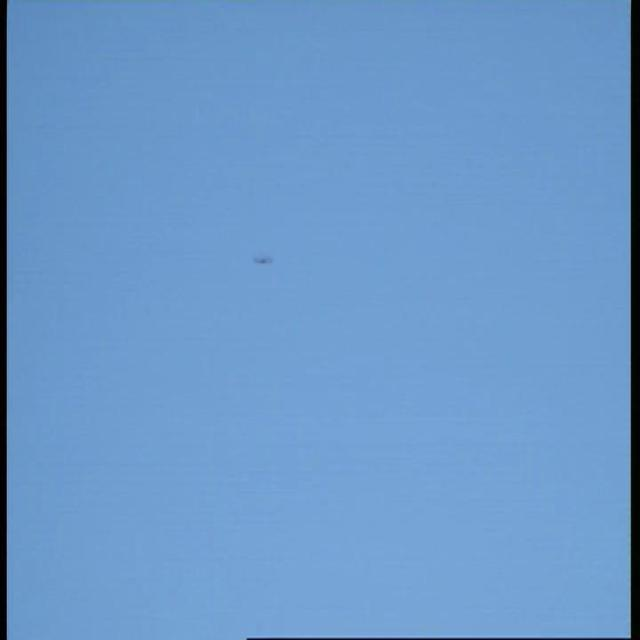drone: (248, 249, 276, 271)
